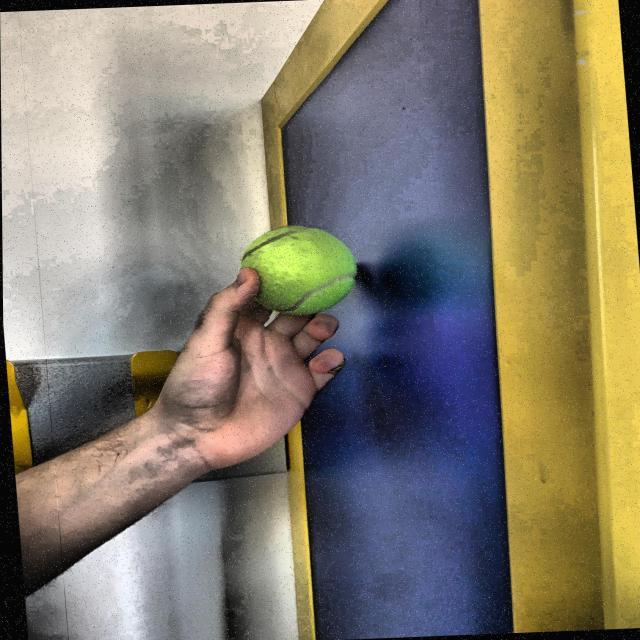tennis-ball: (232, 228, 366, 319)
